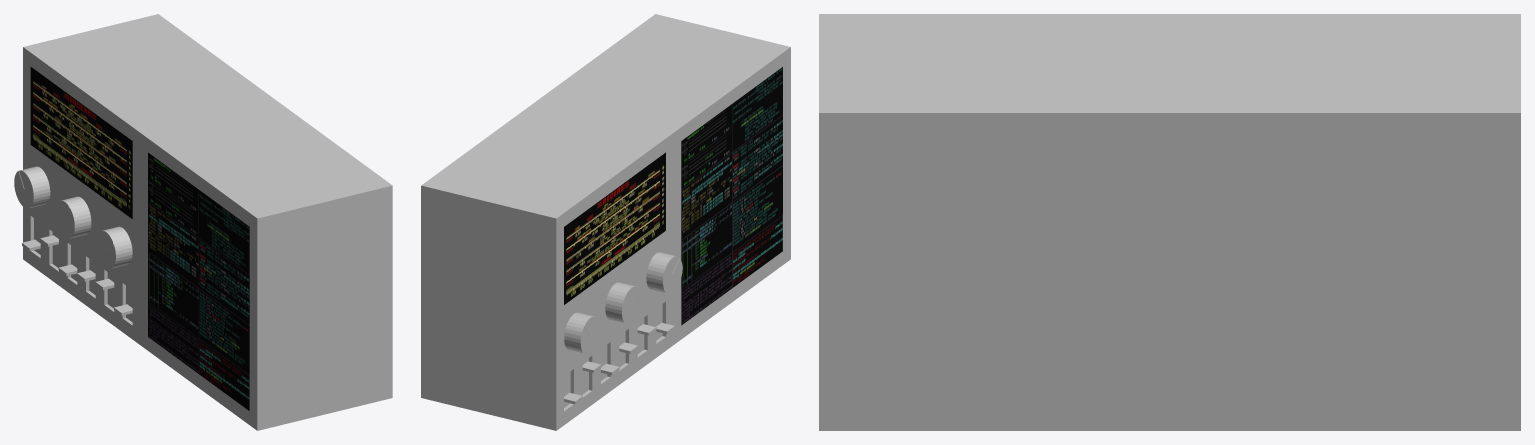
Rendered from Radio.fbx.
3 renders of one model, left to right at view 1: azimuth 30°, elevation 25°; view 2: azimuth 150°, elevation 25°; view 3: azimuth 270°, elevation 25°, orthographic. The views are drawn at different scales.
Visible parts, largest first — view 1: Radio; view 2: Radio; view 3: Radio.
Boxes of the visible parts, <box> form: Radio: <box>14,14,392,430</box>; Radio: <box>421,14,790,430</box>; Radio: <box>819,14,1520,430</box>.
Bounding box in the file's own units: 11.43 × 15.24 × 30.48.
